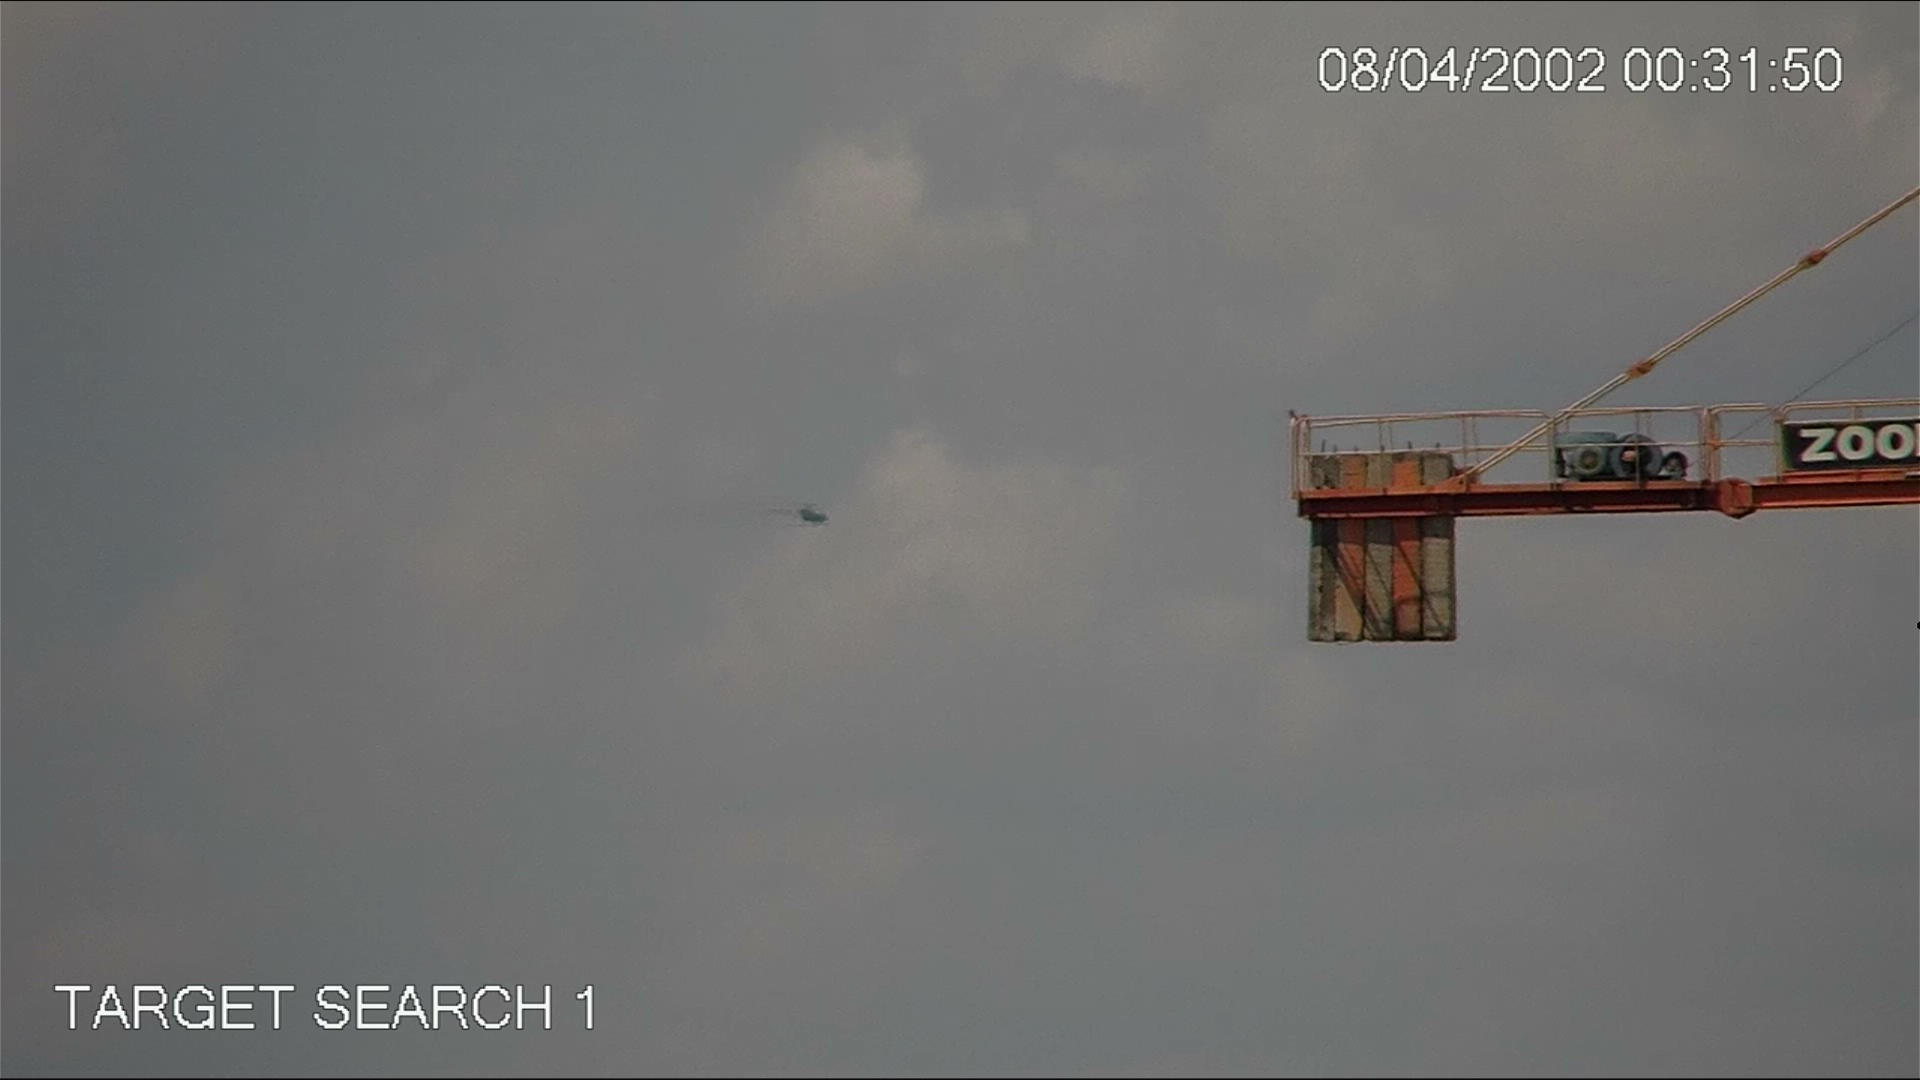SU_30: (770, 498, 836, 535)
